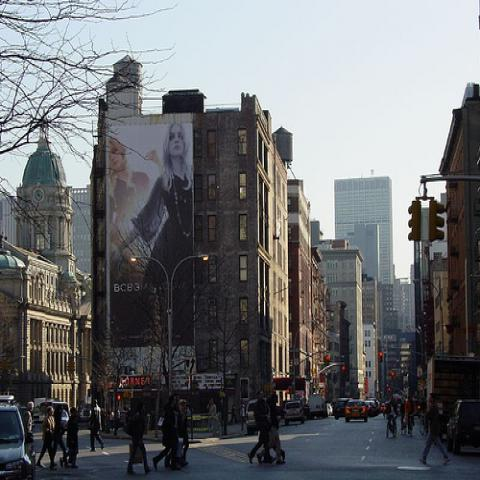car: (0, 394, 32, 480), (444, 399, 480, 454), (343, 399, 371, 423), (306, 396, 328, 420), (284, 401, 305, 426), (245, 399, 259, 435), (61, 409, 71, 434), (39, 402, 52, 420), (334, 400, 345, 420), (366, 400, 378, 417)
truck: (426, 354, 479, 414), (0, 394, 37, 479), (442, 399, 480, 456), (31, 401, 70, 425), (307, 394, 328, 420), (283, 401, 305, 425)
